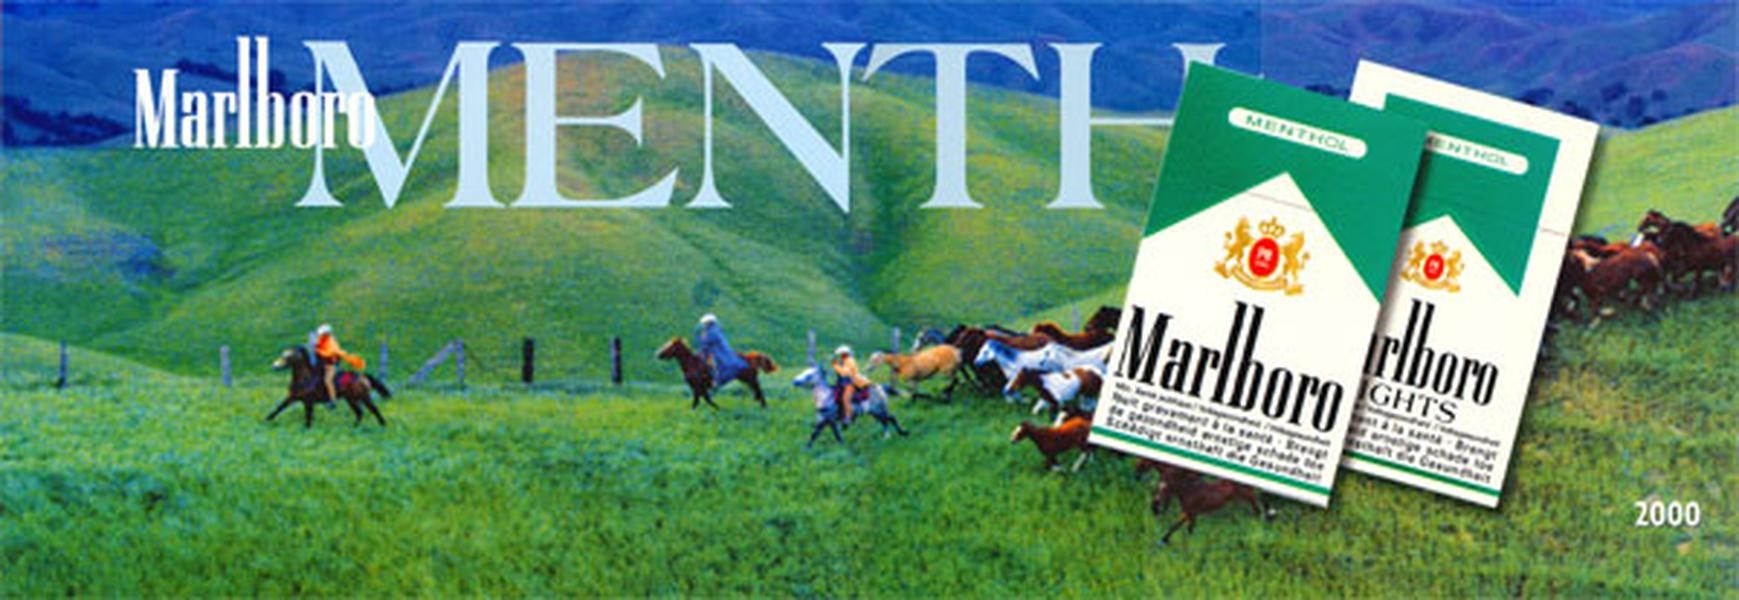marlboro_mentol: (1133, 80, 1396, 443), (1384, 80, 1579, 489)
